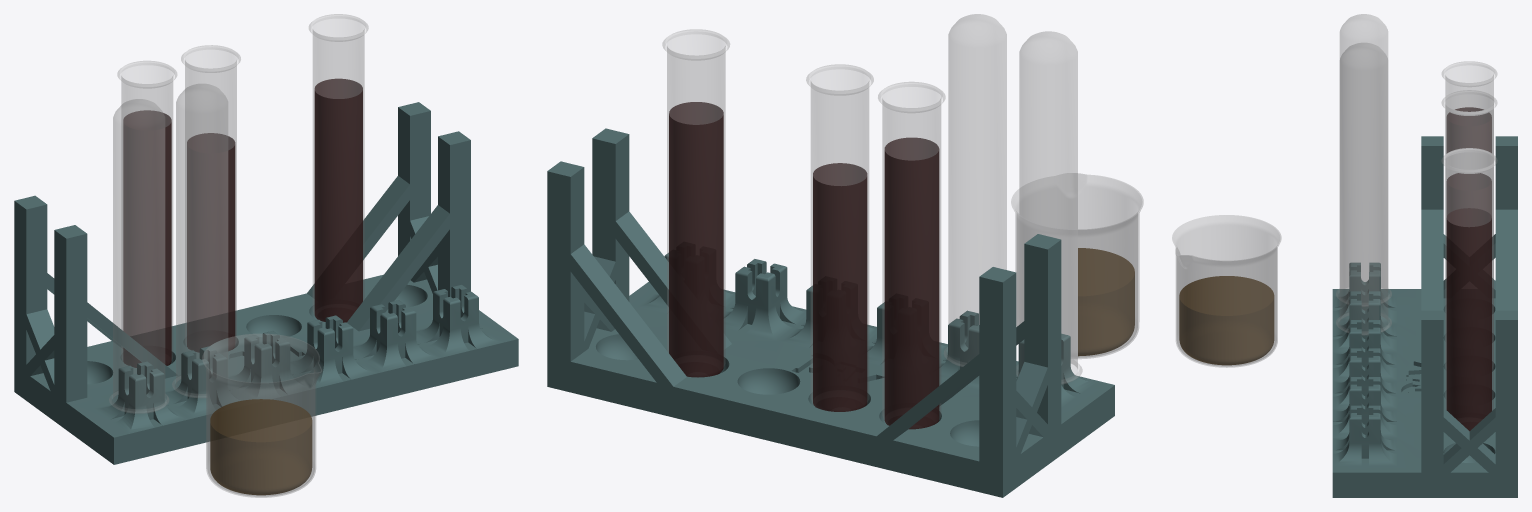
File: Toxicology.obj
3 renders of one model, left to right at view 1: azimuth 30°, elevation 25°; view 2: azimuth 150°, elevation 25°; view 3: azimuth 270°, elevation 25°, orthographic. The views are drawn at different scales.
Parts seen in each view (by area): view 1: Test_Tube_Rack_Base, Original, Cylinder.003_Cylinder.008, Cylinder.002_Cylinder.007, Cylinder.004_Cylinder.009, Circle.001, Circle.002, Circle, Original.001, Cylinder_Cylinder.004, Cylinder.001_Cylinder.006; view 2: Test_Tube_Rack_Base, Cylinder.002_Cylinder.007, Cylinder_Cylinder.004, Cylinder.001_Cylinder.006, Cylinder.004_Cylinder.009, Original, Circle.001, Cylinder.003_Cylinder.008, Circle.002, Circle, Original.001; view 3: Test_Tube_Rack_Base, Original, Cylinder.004_Cylinder.009, Cylinder.002_Cylinder.007, Cylinder.003_Cylinder.008, Circle.002, Original.001, Cylinder_Cylinder.004, Cylinder.001_Cylinder.006, Circle.001, Circle.
Part boxes in pixels (x1=…): Test_Tube_Rack_Base: x1=14, y1=102, x2=518, y2=464; Original: x1=202, y1=334, x2=321, y2=497; Cylinder.003_Cylinder.008: x1=109, y1=99, x2=168, y2=413; Cylinder.002_Cylinder.007: x1=309, y1=14, x2=368, y2=322; Cylinder.004_Cylinder.009: x1=172, y1=84, x2=227, y2=397; Circle.001: x1=123, y1=110, x2=171, y2=367; Circle.002: x1=314, y1=78, x2=362, y2=322; Circle: x1=187, y1=133, x2=235, y2=352; Original.001: x1=210, y1=399, x2=312, y2=495; Cylinder_Cylinder.004: x1=181, y1=45, x2=240, y2=344; Cylinder.001_Cylinder.006: x1=117, y1=61, x2=177, y2=365; Test_Tube_Rack_Base: x1=547, y1=128, x2=1114, y2=497; Cylinder.002_Cylinder.007: x1=662, y1=29, x2=729, y2=376; Cylinder_Cylinder.004: x1=806, y1=64, x2=873, y2=411; Cylinder.001_Cylinder.006: x1=878, y1=82, x2=945, y2=428; Cylinder.004_Cylinder.009: x1=944, y1=14, x2=1006, y2=366; Original: x1=1011, y1=173, x2=1143, y2=358; Circle.001: x1=884, y1=137, x2=939, y2=429; Cylinder.003_Cylinder.008: x1=1016, y1=31, x2=1082, y2=384; Circle.002: x1=669, y1=102, x2=723, y2=377; Circle: x1=813, y1=163, x2=867, y2=411; Original.001: x1=1078, y1=248, x2=1134, y2=356; Test_Tube_Rack_Base: x1=1332, y1=136, x2=1517, y2=497; Original: x1=1172, y1=215, x2=1281, y2=367; Cylinder.004_Cylinder.009: x1=1336, y1=43, x2=1391, y2=335; Cylinder.002_Cylinder.007: x1=1441, y1=148, x2=1497, y2=430; Cylinder.003_Cylinder.008: x1=1336, y1=14, x2=1391, y2=306; Circle.002: x1=1446, y1=208, x2=1491, y2=431; Original.001: x1=1179, y1=276, x2=1274, y2=365; Cylinder_Cylinder.004: x1=1441, y1=90, x2=1497, y2=368; Cylinder.001_Cylinder.006: x1=1441, y1=61, x2=1497, y2=154; Circle.001: x1=1447, y1=107, x2=1491, y2=152; Circle: x1=1447, y1=173, x2=1491, y2=215.
Bounding box in the file's own units: 5.73 × 4.61 × 4.56.
